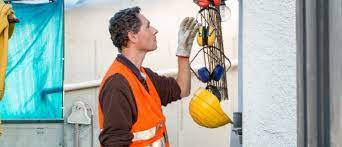Helmet: (191, 91, 230, 133)
Jacket: (96, 67, 175, 147)
gloves: (176, 16, 199, 58)
